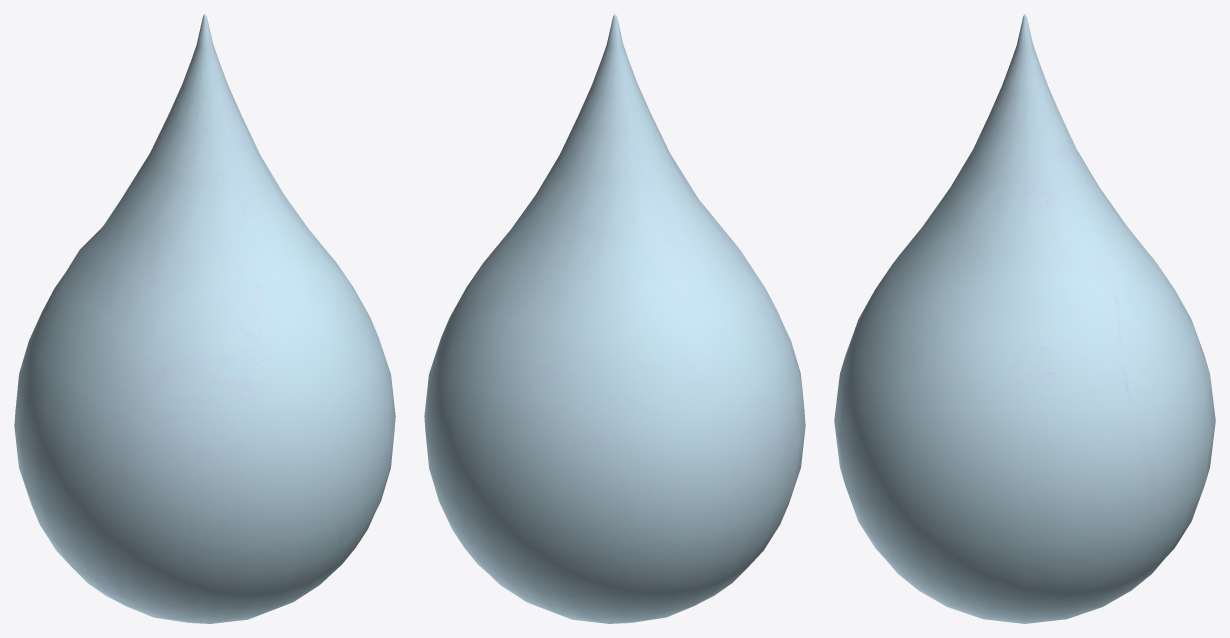
File: water.obj
The picture shows the model from 3 angles, left to right: view 1: azimuth 30°, elevation 25°; view 2: azimuth 150°, elevation 25°; view 3: azimuth 270°, elevation 25°; orthographic projection.
Parts seen in each view (by area): view 1: Drops_Mesh; view 2: Drops_Mesh; view 3: Drops_Mesh.
Boxes of the visible parts, x1,y1,x2,y2 form: Drops_Mesh: (14, 14, 395, 623); Drops_Mesh: (424, 14, 805, 623); Drops_Mesh: (834, 14, 1215, 623).
Size of the model in its own units: 0.0247 by 0.0423 by 0.0247.
Materials: 2 (2 with a texture image).
